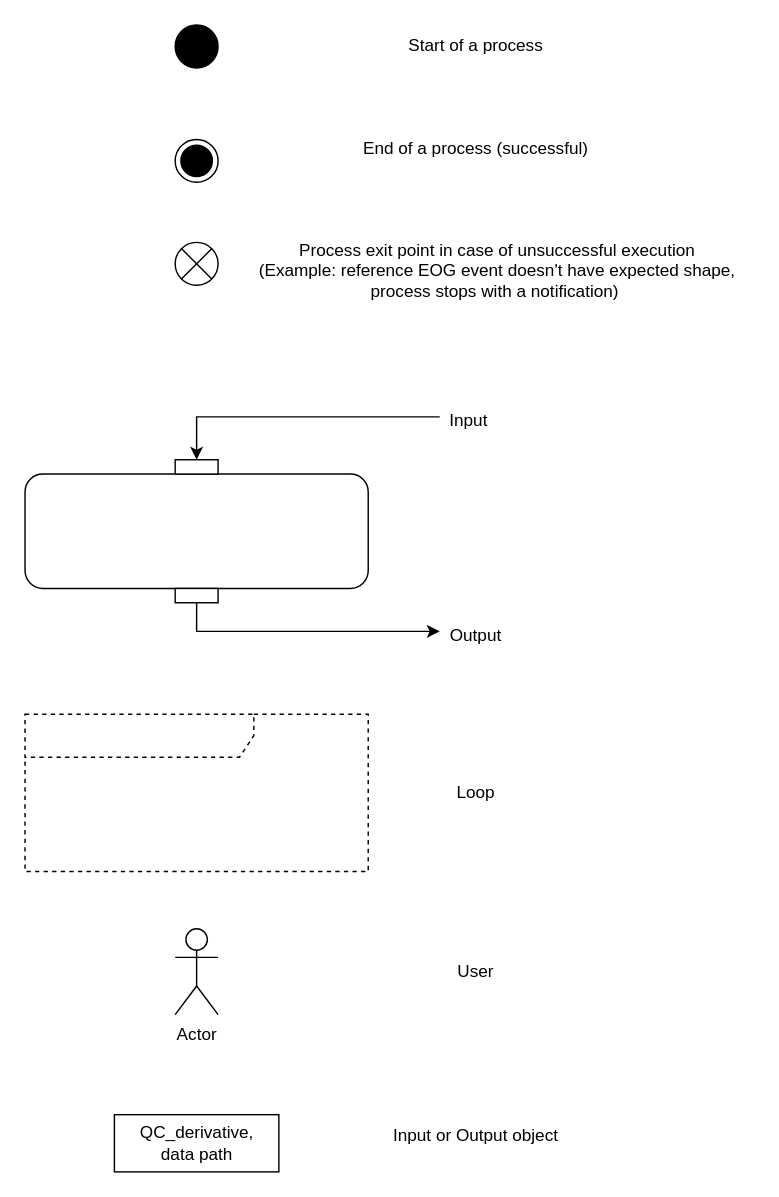
The diagram is 779 pixels wide and 1197 high, and some of its shapes have lost their labels. Each missing label, with the centre of its shape:
"Description function()" belongs at (x=196, y=530).
"For subject:" belongs at (x=196, y=792).
